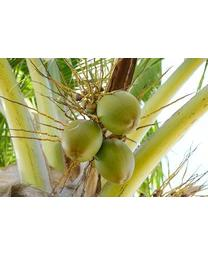coconut: (94, 85, 140, 134), (98, 136, 142, 187), (60, 120, 104, 161)
